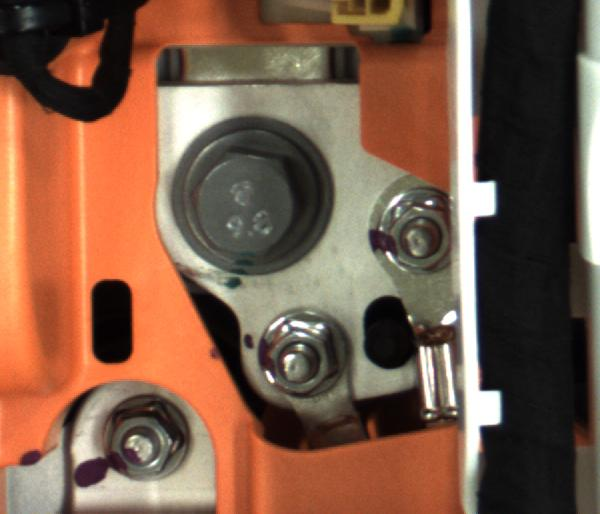nut_b: (164, 108, 340, 277)
screw_s: (103, 390, 197, 492), (372, 189, 469, 285), (253, 302, 341, 404)
